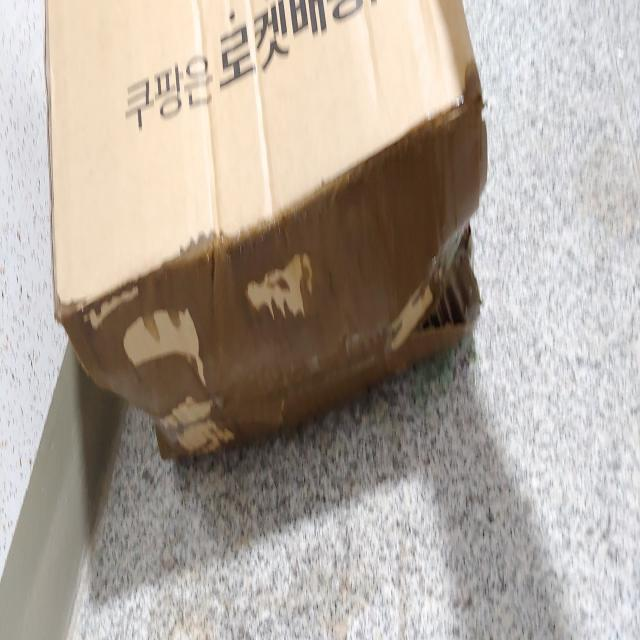wet: (55, 66, 488, 460)
